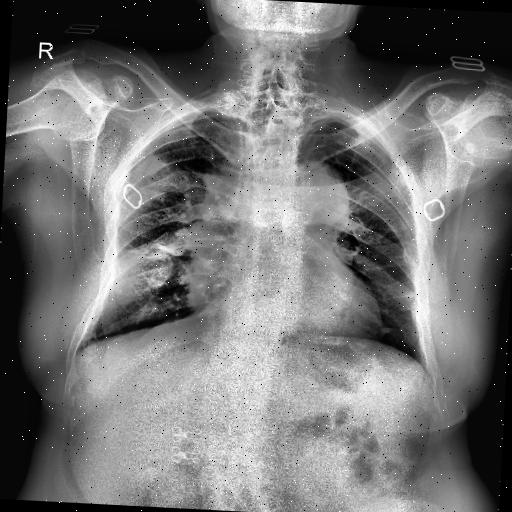0- Aortic enlargement: (275, 158, 349, 226), (288, 160, 354, 229), (291, 156, 351, 222)
11- Pleural thickening: (197, 100, 242, 122), (308, 111, 354, 132)
3- Cardiomegaly: (182, 256, 388, 348), (186, 267, 385, 347)
7- Lung Opacity: (179, 166, 251, 318), (107, 250, 174, 302)
8- Nodule-Mass: (140, 254, 173, 289)
9- Other lesion: (92, 300, 162, 343)
